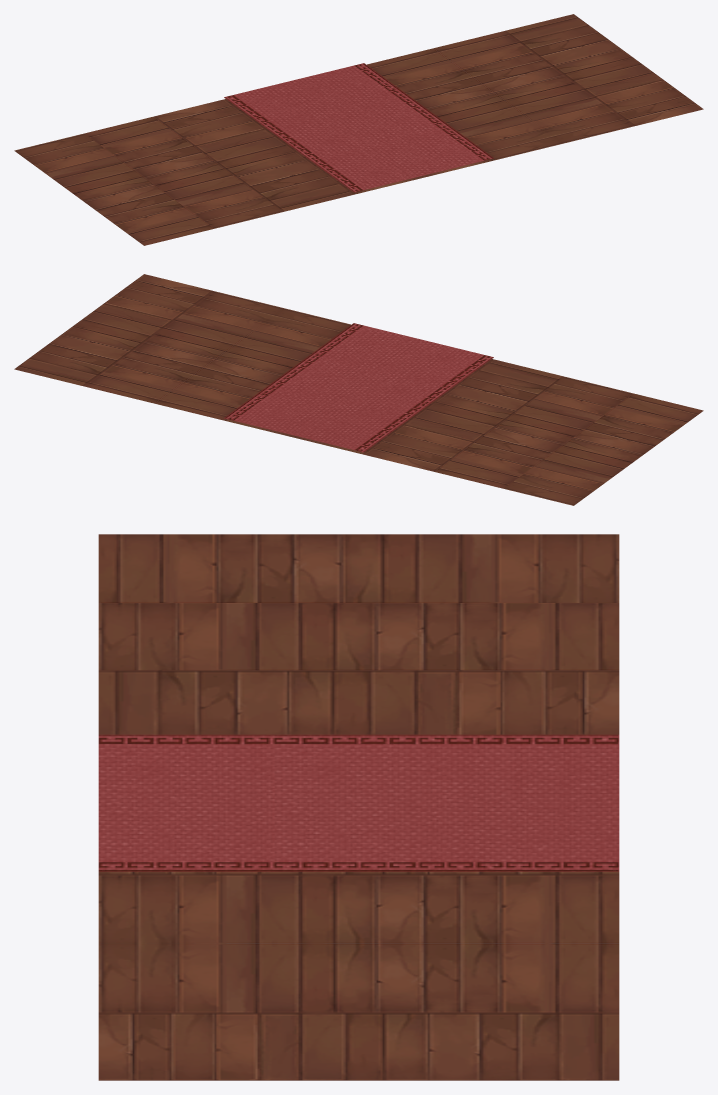
File: FB_Chengxiangfu_dibiao.FBX
The picture shows the model from 3 angles, top to bottom: view 1: azimuth 30°, elevation 25°; view 2: azimuth 150°, elevation 25°; view 3: azimuth 270°, elevation 25°; orthographic projection. The views are drawn at different scales.
Visible parts, largest first — view 1: Object03, Object05; view 2: Object03, Object05; view 3: Object03, Object05.
Part boxes in pixels (x1=…): Object03: x1=14, y1=14, x2=703, y2=245; Object05: x1=224, y1=63, x2=493, y2=192; Object03: x1=14, y1=274, x2=703, y2=505; Object05: x1=224, y1=323, x2=493, y2=452; Object03: x1=98, y1=534, x2=619, y2=1080; Object05: x1=98, y1=734, x2=619, y2=871.
Bounding box in the file's own units: 24.82 × 0.0906 × 10.
